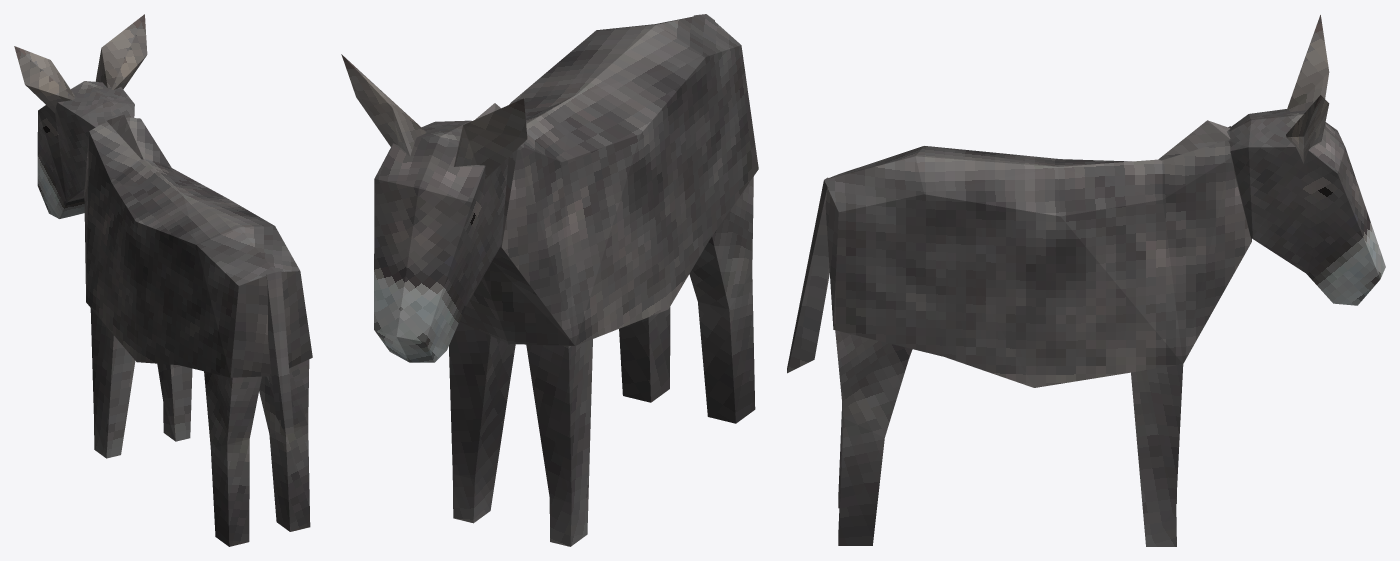
Rendered from Donkey_Donkey.glb.
3 views of the same model, side by side, from view 1: azimuth 30°, elevation 25°; view 2: azimuth 150°, elevation 25°; view 3: azimuth 270°, elevation 25° (orthographic). The views are drawn at different scales.
Visible parts, largest first — view 1: Body, Head, Leg3, Leg4, Leg1, Leg2; view 2: Body, Head, Leg3, Leg1, Leg2, Leg4; view 3: Body, Head, Leg4, Leg2.
Boxes of the visible parts, <box> form: Body: <box>84,114,312,434</box>; Head: <box>14,14,147,218</box>; Leg3: <box>204,371,261,546</box>; Leg4: <box>259,359,310,531</box>; Leg1: <box>90,308,135,458</box>; Leg2: <box>157,363,192,441</box>; Body: <box>459,14,758,345</box>; Head: <box>341,54,527,362</box>; Leg3: <box>689,176,755,423</box>; Leg1: <box>526,339,592,546</box>; Leg2: <box>449,321,515,523</box>; Leg4: <box>619,307,670,402</box>; Body: <box>787,120,1251,387</box>; Head: <box>1228,15,1385,305</box>; Leg4: <box>835,330,912,545</box>; Leg2: <box>1131,364,1183,546</box>.
Bounding box in the file's own units: 0.6117 × 1.65 × 1.91.
1 material, 1 textured.
